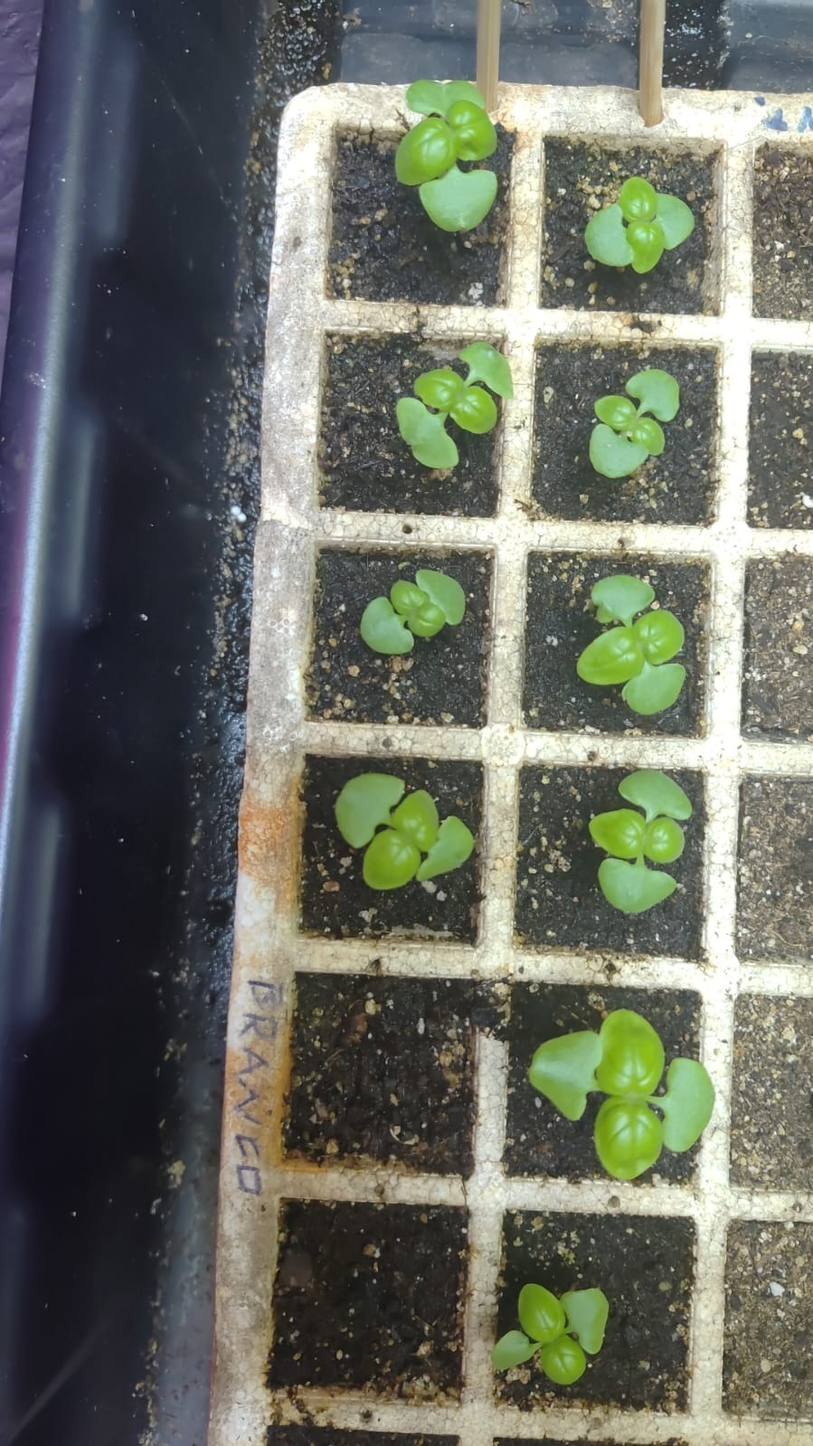Folha: (525, 1007, 719, 1185), (391, 75, 501, 234), (487, 1275, 612, 1389), (572, 569, 686, 686), (581, 168, 697, 275), (328, 768, 424, 892), (586, 366, 682, 478), (392, 378, 502, 470), (591, 767, 693, 865), (574, 603, 685, 685), (595, 813, 684, 914), (390, 777, 477, 879), (414, 133, 498, 233), (349, 804, 430, 893), (443, 337, 512, 434), (412, 336, 515, 399), (626, 175, 695, 269), (389, 567, 467, 640), (616, 607, 686, 677), (328, 792, 376, 893), (588, 417, 666, 477), (401, 363, 466, 420), (392, 781, 443, 853), (588, 808, 655, 861), (490, 1322, 554, 1375), (622, 664, 687, 715), (358, 595, 412, 655), (566, 1286, 611, 1355), (515, 1282, 568, 1339), (619, 175, 662, 241), (642, 816, 688, 863), (629, 218, 662, 273), (591, 393, 637, 430), (594, 264, 665, 277)
Germinacao: (505, 529, 695, 754), (514, 997, 719, 1202), (330, 563, 513, 746), (480, 1188, 638, 1385), (551, 749, 722, 916), (327, 738, 504, 898), (390, 77, 500, 233), (390, 339, 515, 472), (582, 175, 696, 275), (587, 366, 683, 480)
